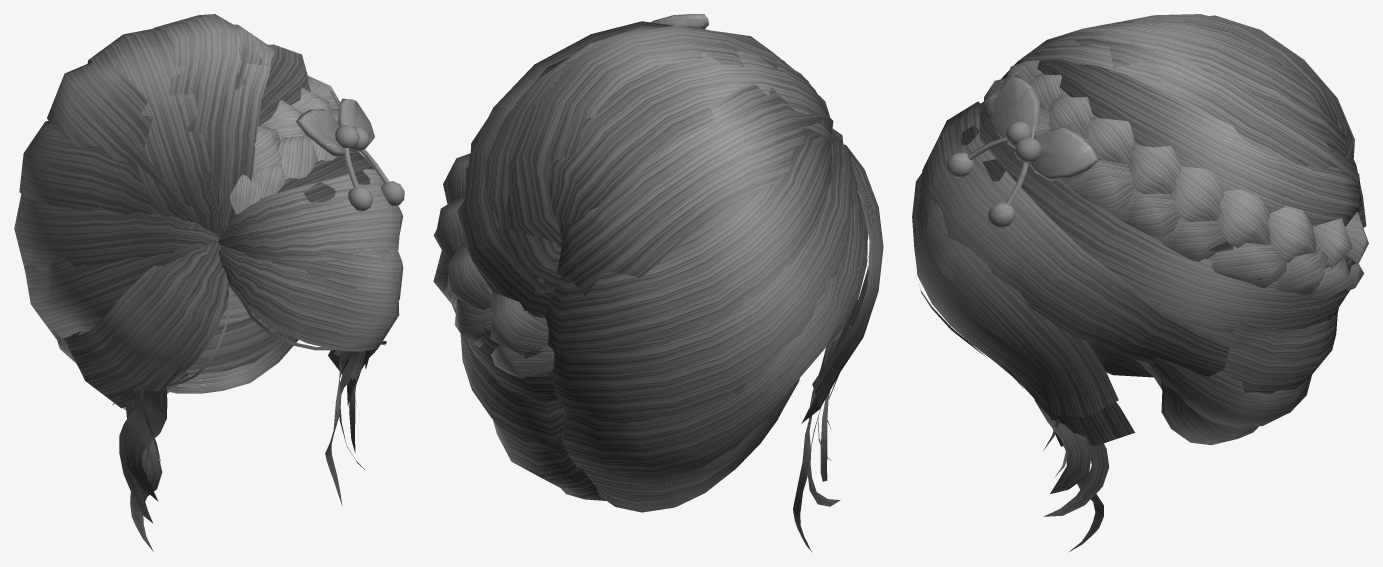
The model's file is SurvivorMale_Head_Hair_Beehive_LOD0.glb.
3 renders of one model, left to right at view 1: azimuth 30°, elevation 25°; view 2: azimuth 150°, elevation 25°; view 3: azimuth 270°, elevation 25°, orthographic. The views are drawn at different scales.
Parts seen in each view (by area): view 1: Hoodie; view 2: Hoodie; view 3: Hoodie.
Boxes of the visible parts, x1,y1,x2,y2 form: Hoodie: (14, 14, 404, 551); Hoodie: (433, 14, 883, 552); Hoodie: (912, 14, 1368, 552).
Size of the model in its own units: 0.2184 by 0.3178 by 0.2732.
1 material, 1 textured.
